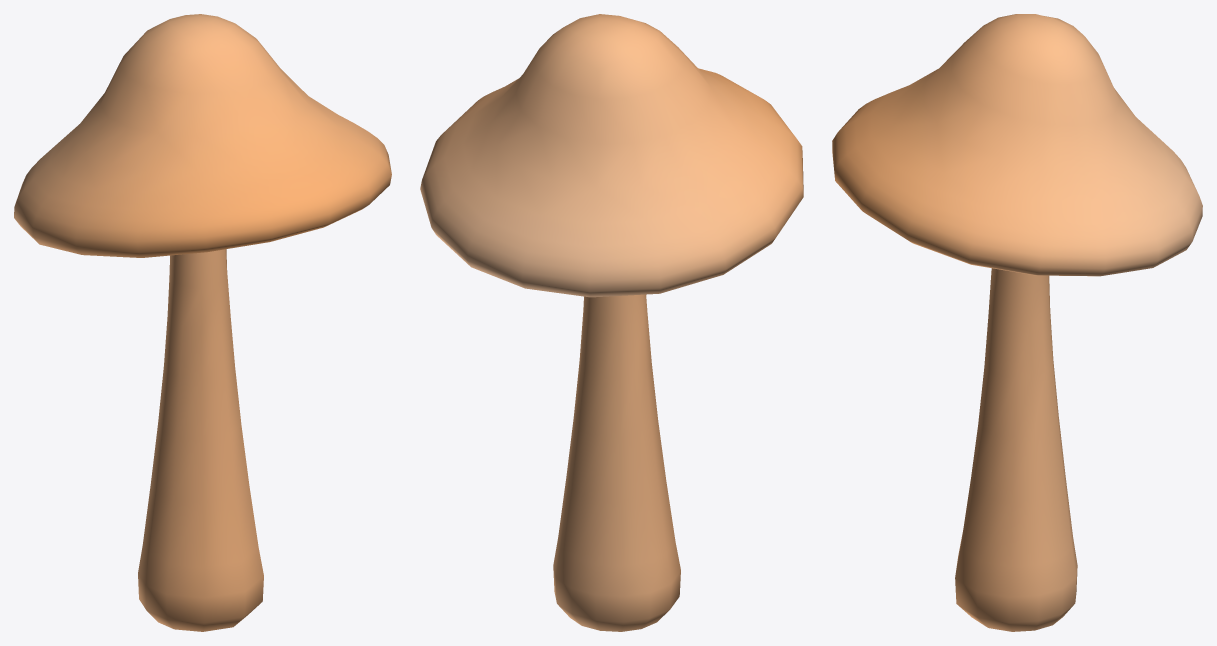
File: mushroom 28.fbx
The picture shows the model from 3 angles, left to right: view 1: azimuth 30°, elevation 25°; view 2: azimuth 150°, elevation 25°; view 3: azimuth 270°, elevation 25°; orthographic projection.
Visible parts, largest first — view 1: Mushroom_0001_0028; view 2: Mushroom_0001_0028; view 3: Mushroom_0001_0028.
Part boxes in pixels (box(x1,y1,x2,y2)): Mushroom_0001_0028: box(14, 14, 391, 631); Mushroom_0001_0028: box(420, 14, 803, 631); Mushroom_0001_0028: box(832, 14, 1202, 631).
Bounding box in the file's own units: 18.03 × 30.71 × 17.33.
Materials: 1 (1 with a texture image).
